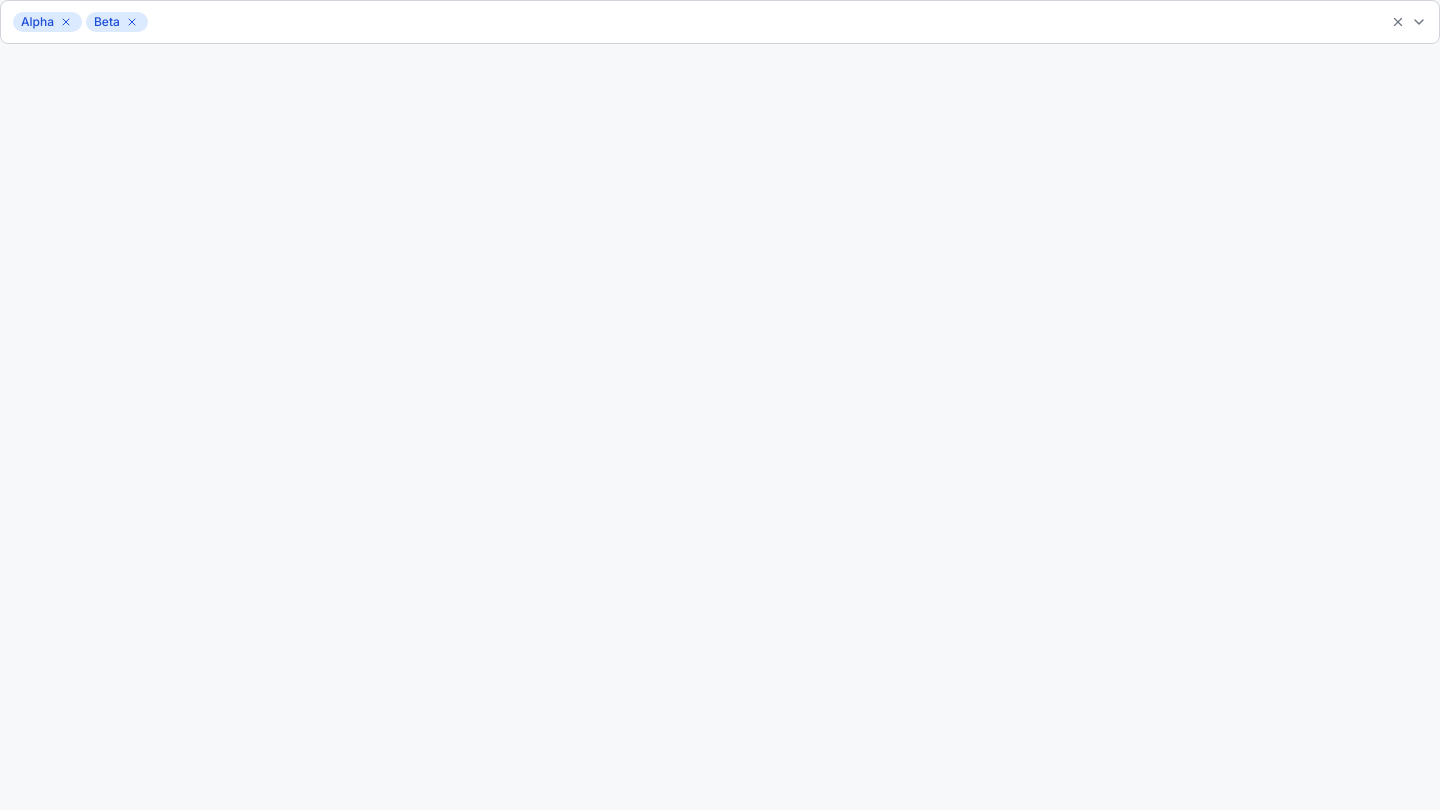
it: MultiSelect › bulk actions › shows selection count in bulk actions
Step 1. Click the button with test id "multiselect-multiselect-trigger" → point(47, 22), box x1=0 y1=0 x2=1439 y2=44
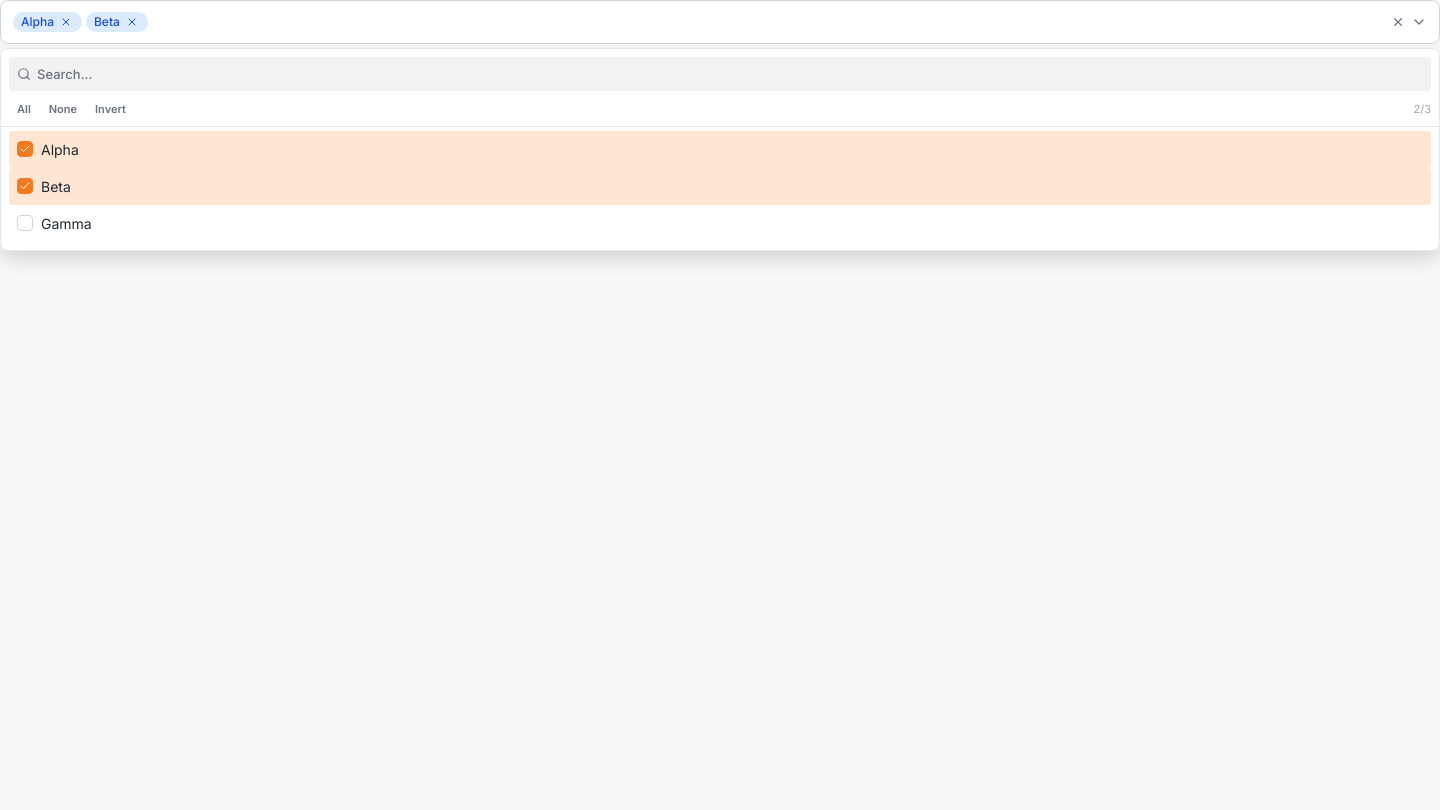
Check: the text "2/3" is shown, box x1=1414 y1=101 x2=1431 y2=118
